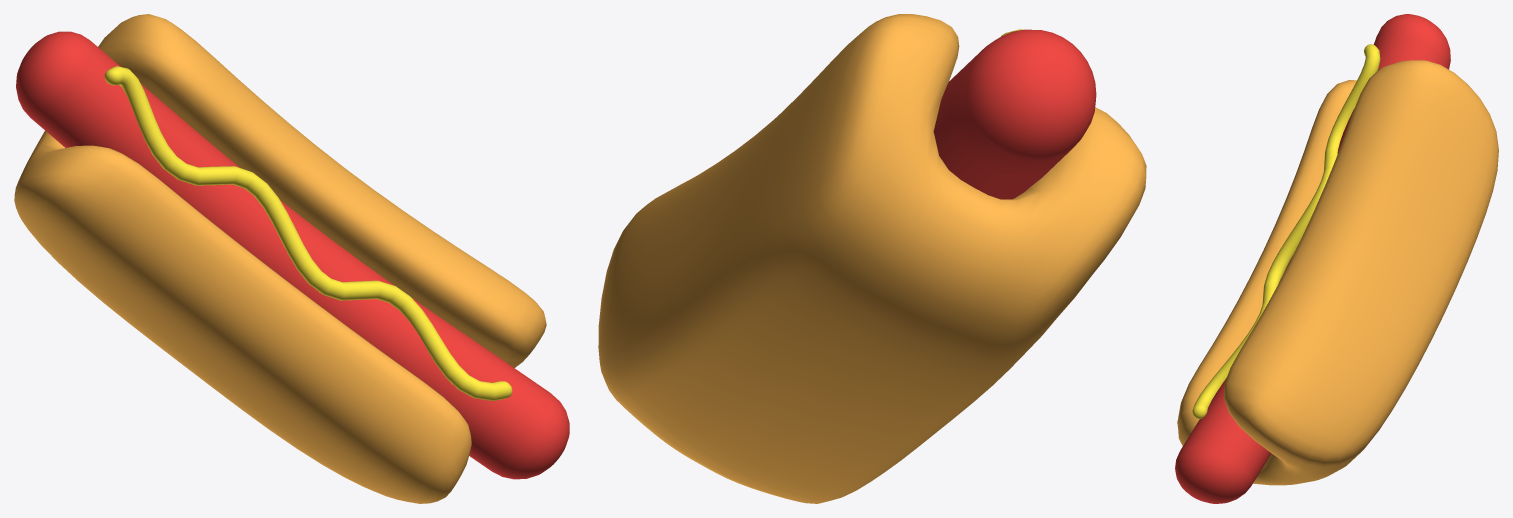
Rendered from hot_dog.glb.
3 renders of one model, left to right at view 1: azimuth 30°, elevation 25°; view 2: azimuth 150°, elevation 25°; view 3: azimuth 270°, elevation 25°, orthographic. The views are drawn at different scales.
Parts seen in each view (by area): view 1: Cube.353; view 2: Cube.353; view 3: Cube.353.
Boxes of the visible parts, bbox=[...] form: Cube.353: bbox=[14, 14, 569, 503]; Cube.353: bbox=[598, 14, 1146, 503]; Cube.353: bbox=[1175, 14, 1498, 503].
Size of the model in its own units: 2.01 by 1.97 by 1.56.
1 material, 1 textured.
